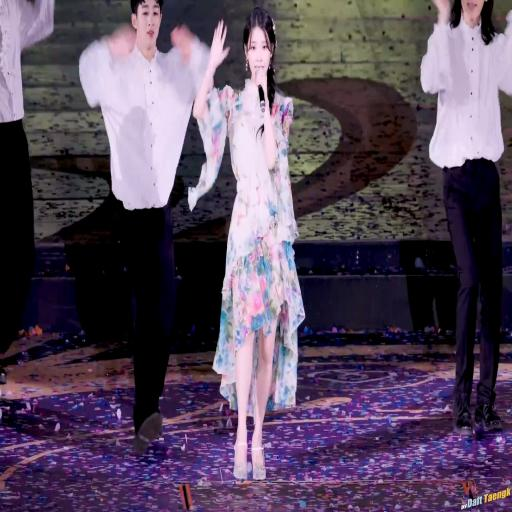IU: (243, 8, 277, 80)
